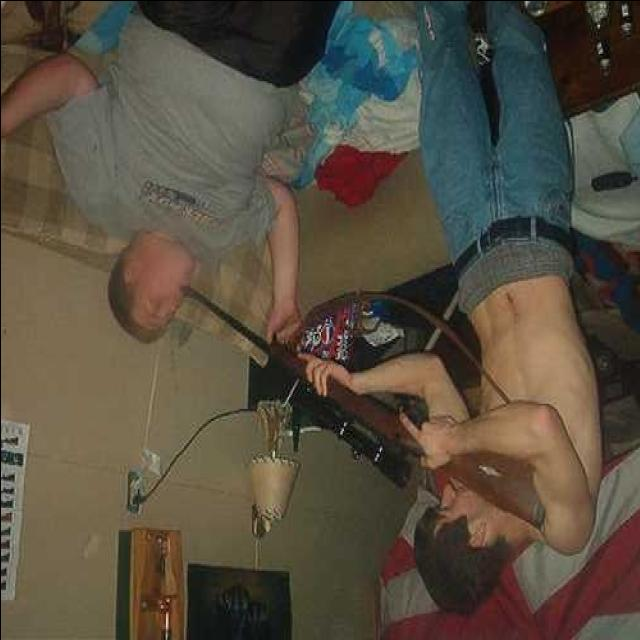heavyweapon: (169, 261, 565, 551)
